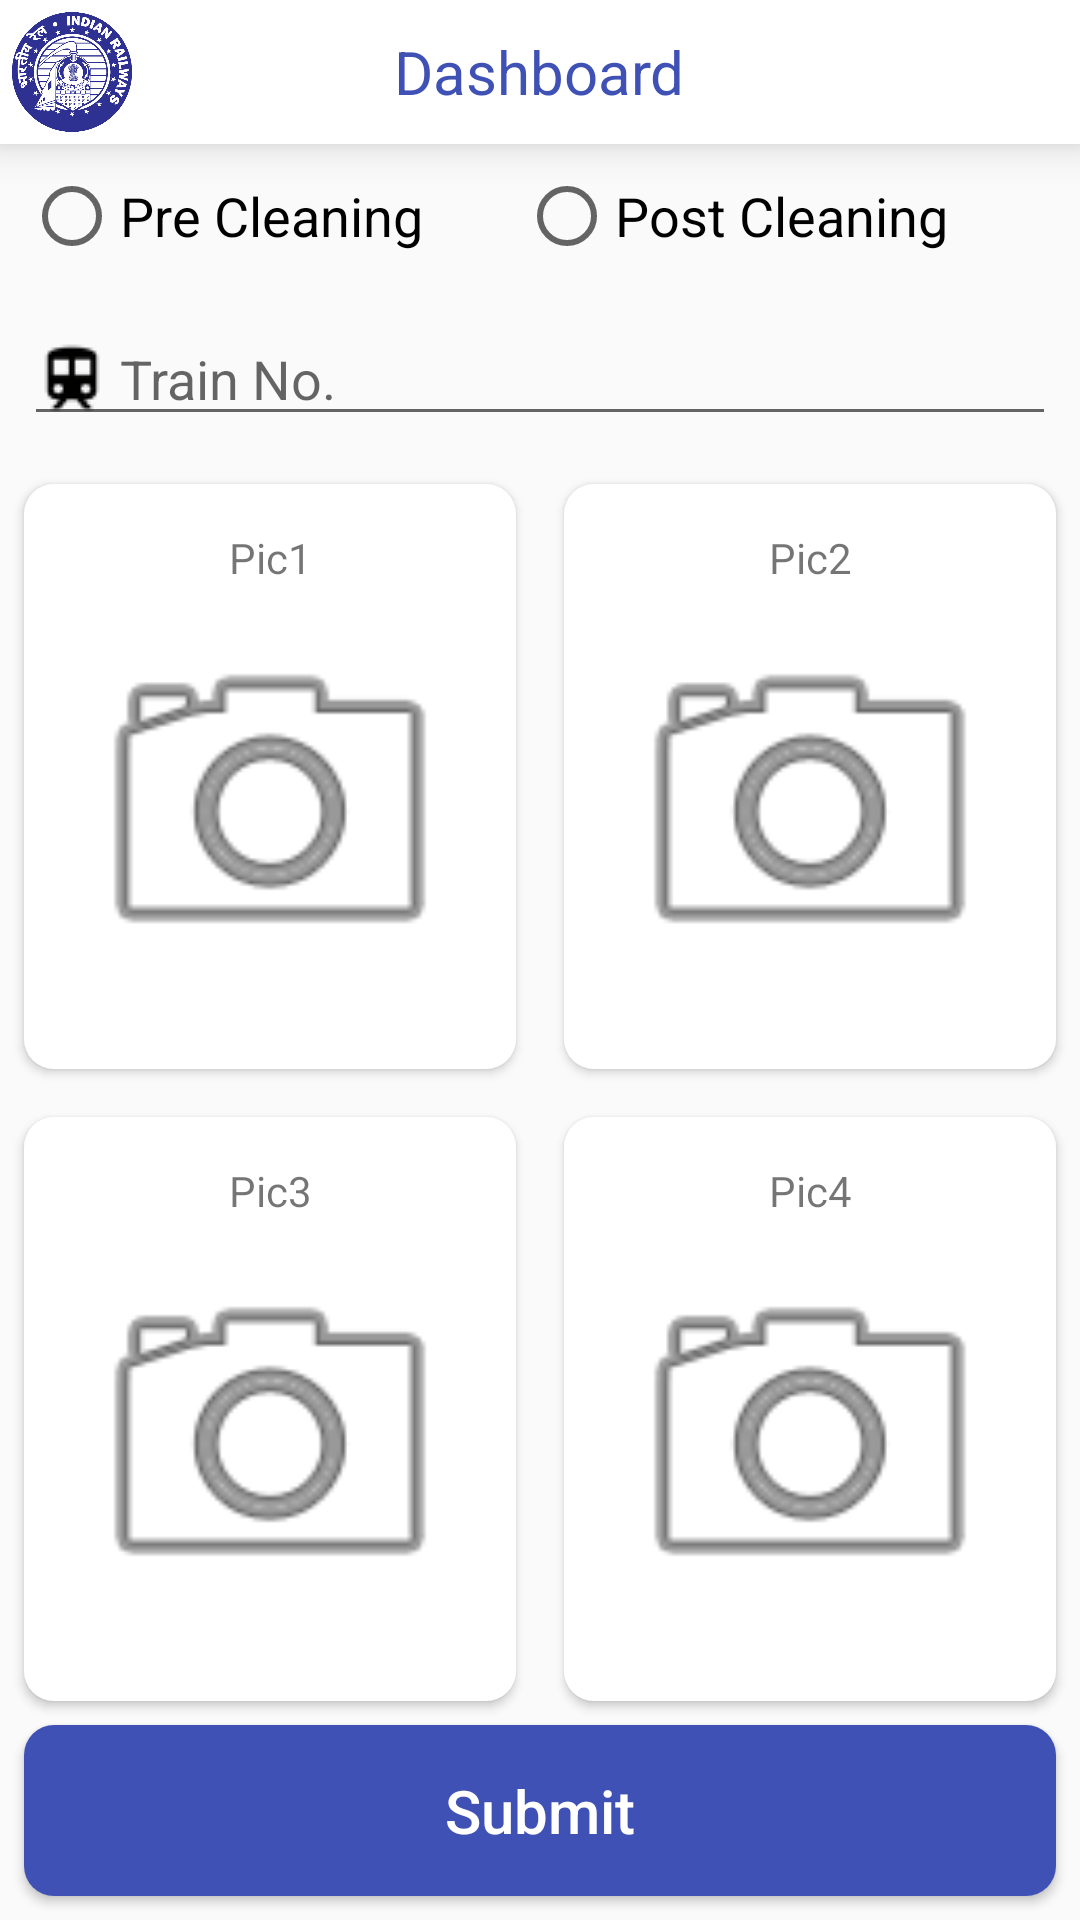

Where to tap for icons on this 1080 × 1920 app screen, as (x,y):
camera: (270,799), (810,799), (270,1431), (810,1431)
